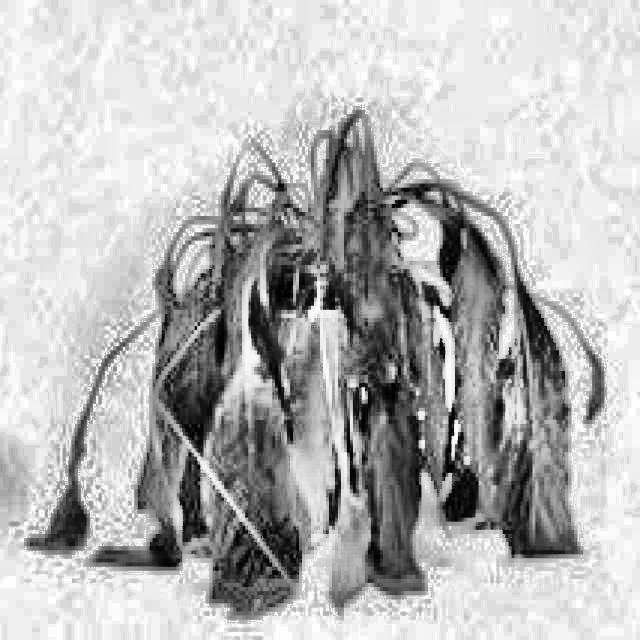plants: (36, 110, 612, 614)
